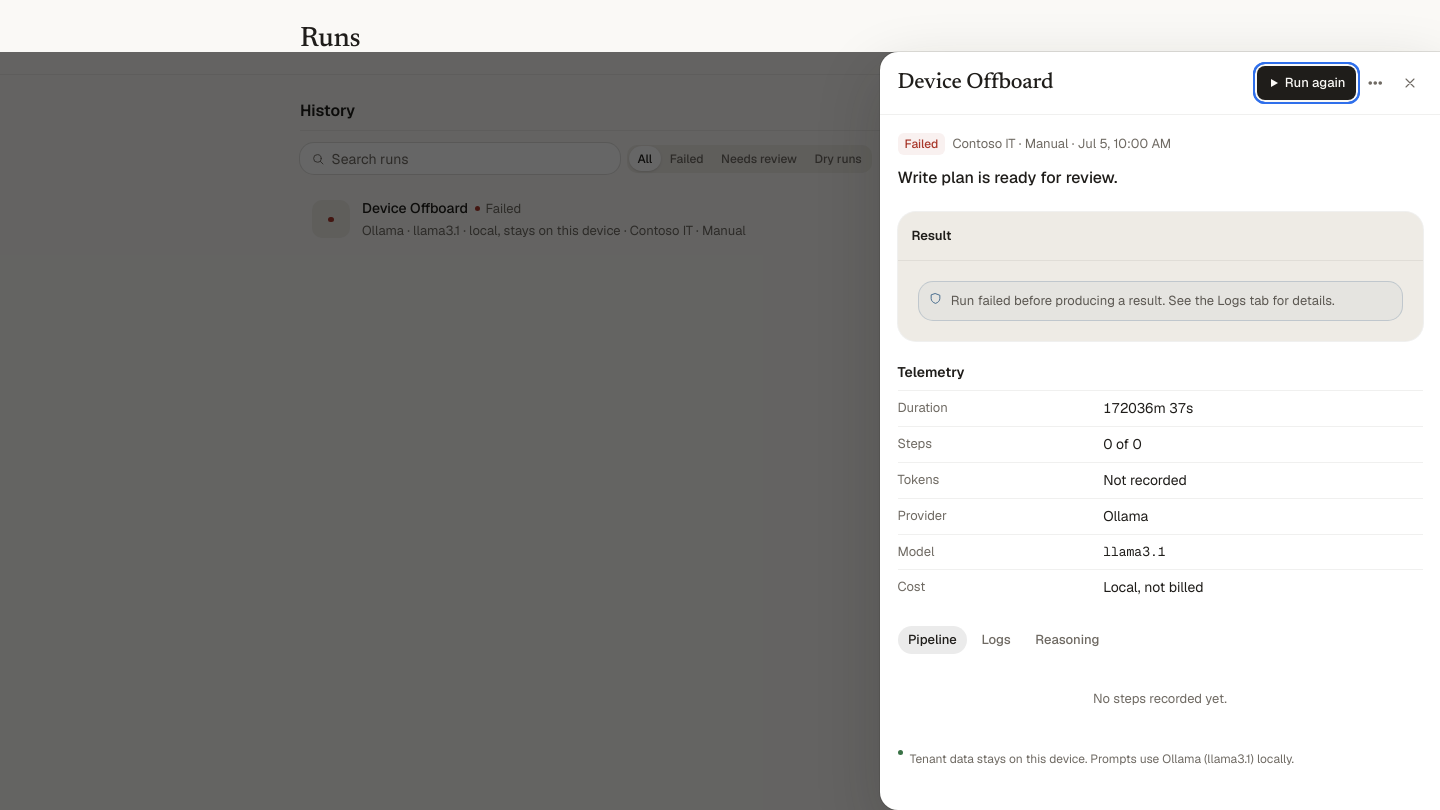
Test: shows a failed rerun reason instead of silently leaving the result unchanged
Click the button "Run again" at coordinates (1307, 83), box [1257,66,1356,100]
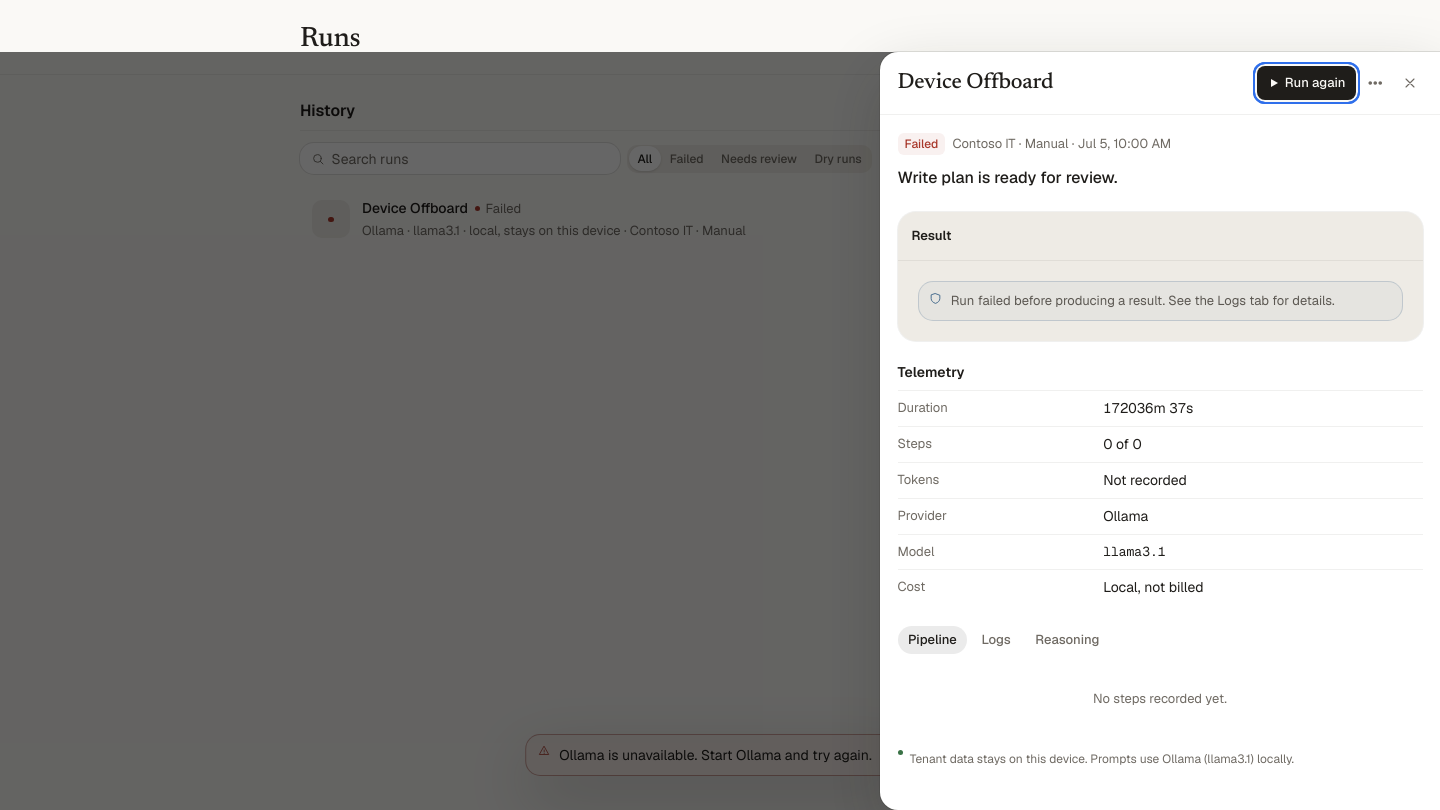
expect the text "Ollama is unavailable. Start Ollama and try again." is shown: met, box [559,744,872,766]
